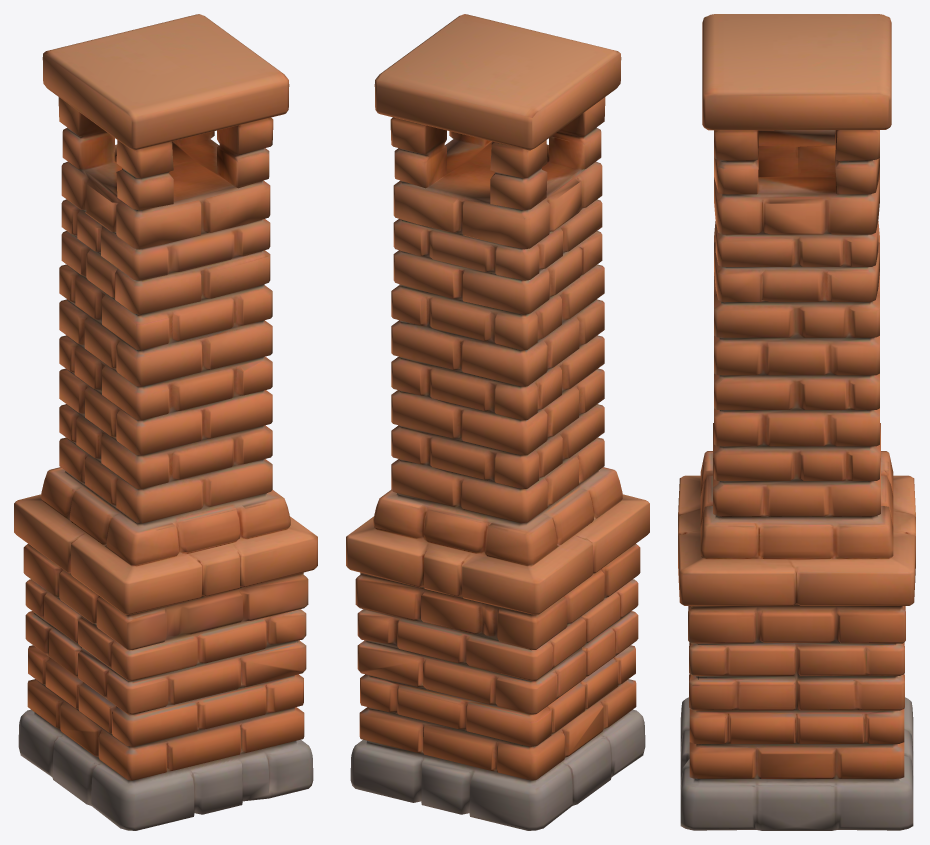
The model's file is a_brick_chimney_47c9b7a0_v2.glb.
3 renders of one model, left to right at view 1: azimuth 30°, elevation 25°; view 2: azimuth 150°, elevation 25°; view 3: azimuth 270°, elevation 25°, orthographic. The views are drawn at different scales.
Visible parts, largest first — view 1: material; view 2: material; view 3: material.
Boxes of the visible parts, x1,y1,x2,y2 form: material: (14,14,317,830); material: (346,14,649,830); material: (678,14,915,830).
Size of the model in its own units: 0.5409 by 1.9 by 0.5566.
Materials: 1 (1 with a texture image).
